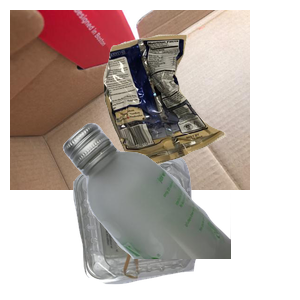cardboard: (10, 10, 250, 190)
glass: (60, 120, 300, 300)
plastic: (71, 154, 300, 300)
trash: (101, 32, 300, 195)
